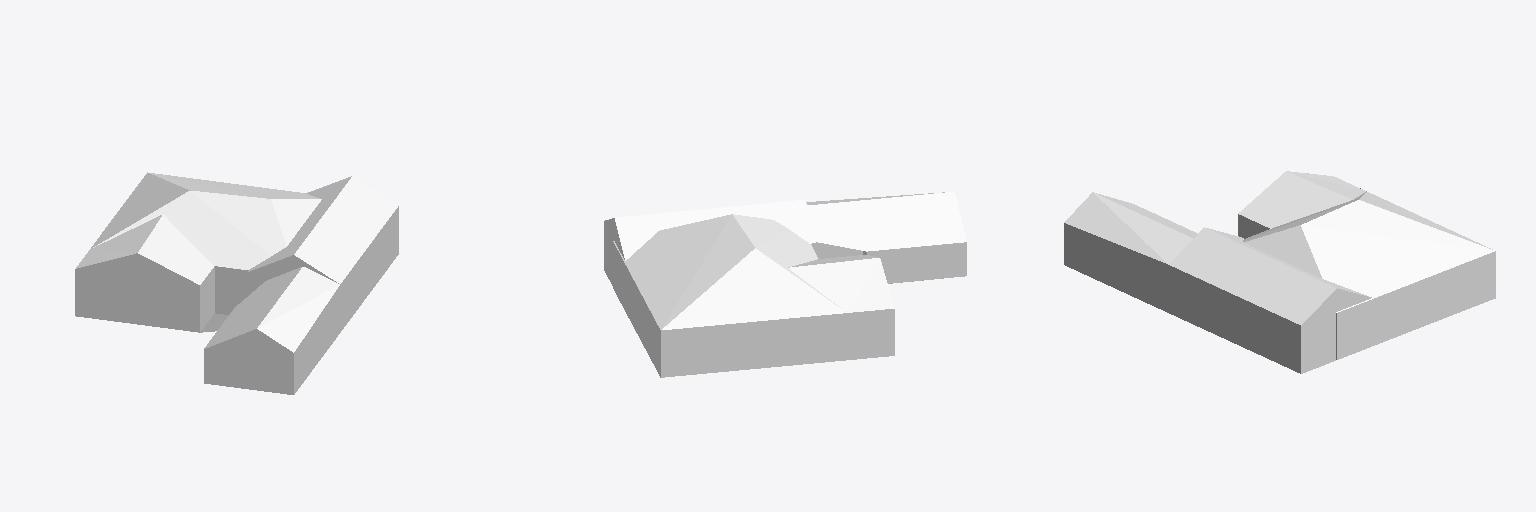
File: house_Shape 276.obj
3 views of the same model, side by side, from view 1: azimuth 30°, elevation 25°; view 2: azimuth 150°, elevation 25°; view 3: azimuth 270°, elevation 25° (orthographic).
Parts seen in each view (by area): view 1: CityEngineMaterial_4, CityEngineMaterial_168, CityEngineMaterial_167; view 2: CityEngineMaterial_4, CityEngineMaterial_167; view 3: CityEngineMaterial_4, CityEngineMaterial_167.
Boxes of the visible parts, x1,y1,x2,y2 form: CityEngineMaterial_4: [76, 172, 398, 352]; CityEngineMaterial_168: [75, 258, 338, 394]; CityEngineMaterial_167: [102, 206, 398, 394]; CityEngineMaterial_4: [613, 192, 966, 329]; CityEngineMaterial_167: [604, 219, 966, 377]; CityEngineMaterial_4: [1064, 171, 1494, 325]; CityEngineMaterial_167: [1064, 188, 1495, 373].
Bounding box in the file's own units: 22.42 × 6.03 × 27.29.